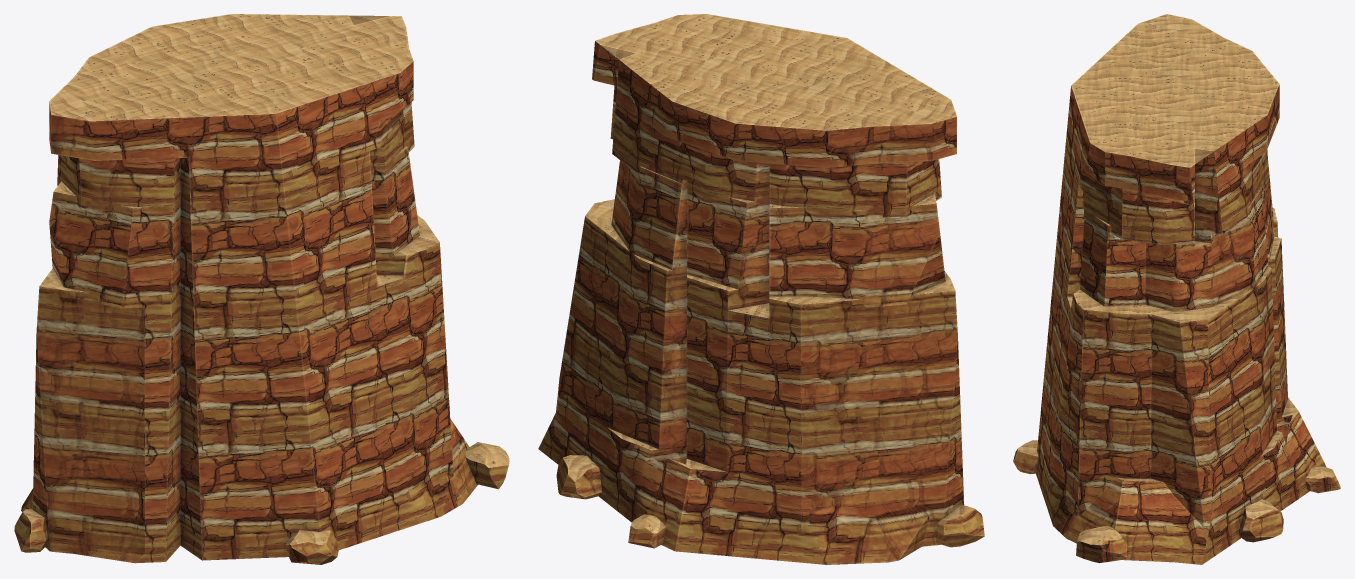
Rendered from cliff_block_03.glb.
3 renders of one model, left to right at view 1: azimuth 30°, elevation 25°; view 2: azimuth 150°, elevation 25°; view 3: azimuth 270°, elevation 25°, orthographic. The views are drawn at different scales.
Parts seen in each view (by area): view 1: cliff_block_03; view 2: cliff_block_03; view 3: cliff_block_03.
Boxes of the visible parts, x1,y1,x2,y2 form: cliff_block_03: [14, 14, 509, 564]; cliff_block_03: [538, 14, 984, 564]; cliff_block_03: [1013, 14, 1340, 564].
Bounding box in the file's own units: 8.21 × 7.6 × 6.01.
1 material, 1 textured.
